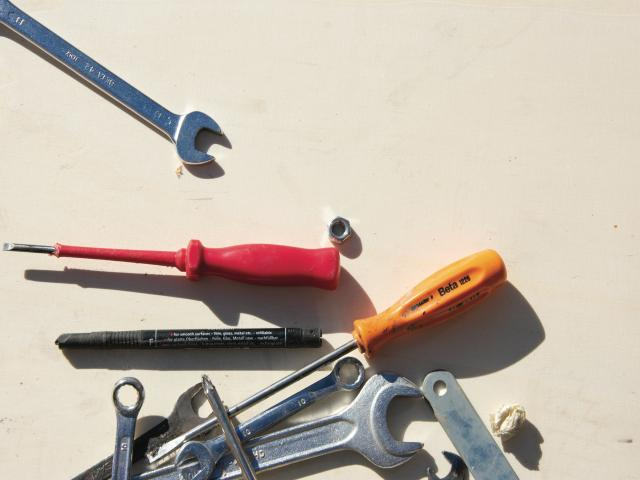Screwdriver: (148, 249, 507, 464), (4, 240, 340, 290)
Wrench: (130, 372, 425, 480), (176, 357, 364, 480), (72, 382, 229, 480), (111, 377, 145, 480), (428, 451, 466, 480)
